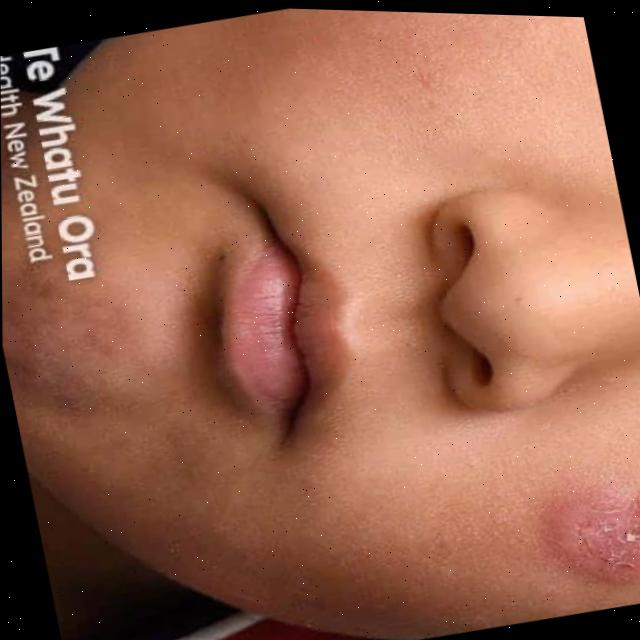Eczema: (553, 464, 640, 591)
